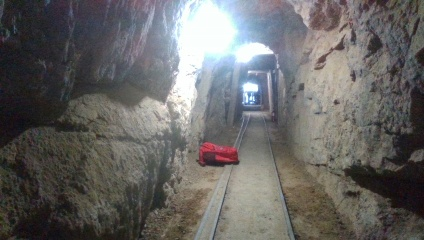backpack: (197, 139, 239, 166)
